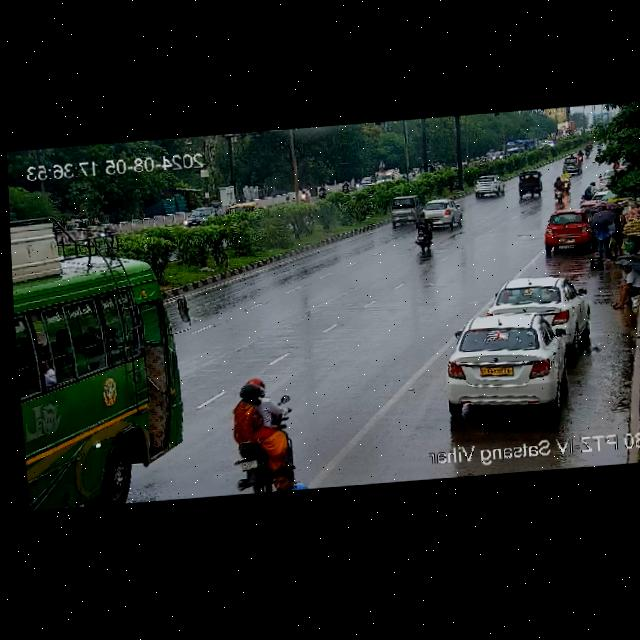bus: (10, 212, 192, 509)
car: (440, 312, 575, 417), (490, 272, 588, 344), (541, 209, 594, 251), (417, 197, 464, 228), (181, 204, 228, 227), (385, 195, 423, 223), (516, 170, 543, 197), (474, 174, 504, 197), (563, 153, 583, 173)
motorcycle: (231, 374, 302, 494), (409, 214, 437, 253), (578, 181, 598, 202), (549, 176, 564, 199), (560, 171, 570, 191)
person: (587, 192, 632, 259), (608, 263, 640, 305)
